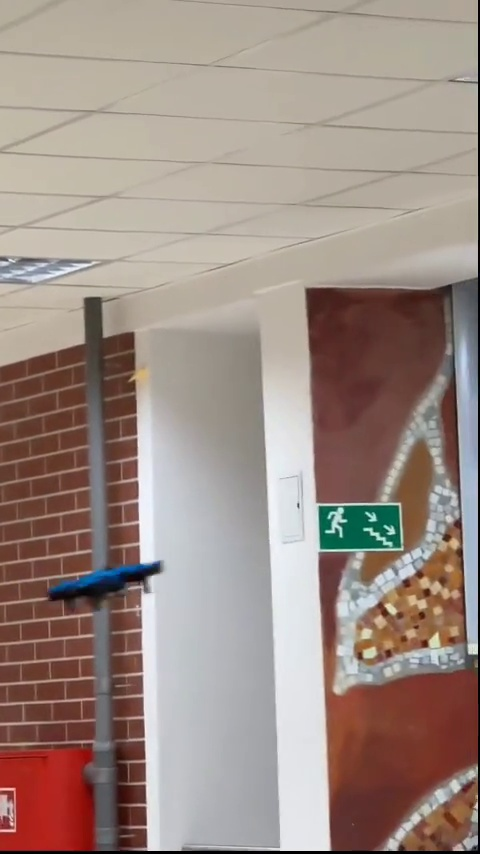drone: (43, 562, 166, 612)
